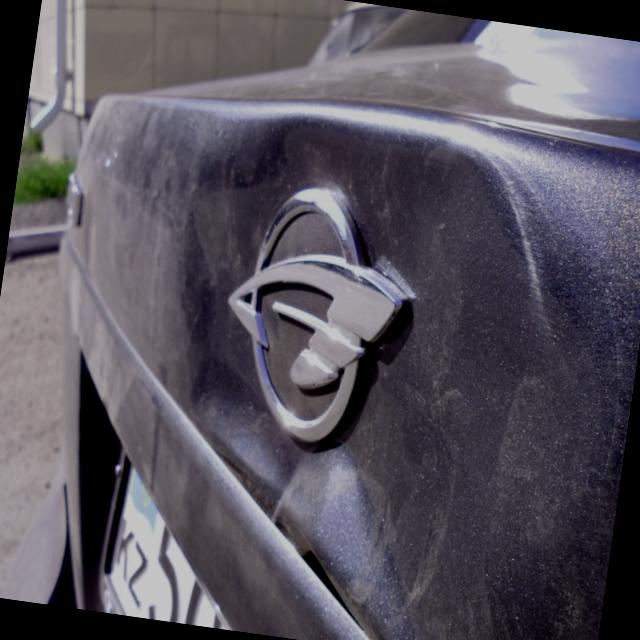Cabossage: (105, 96, 565, 640), (260, 430, 437, 639), (178, 354, 308, 521)
